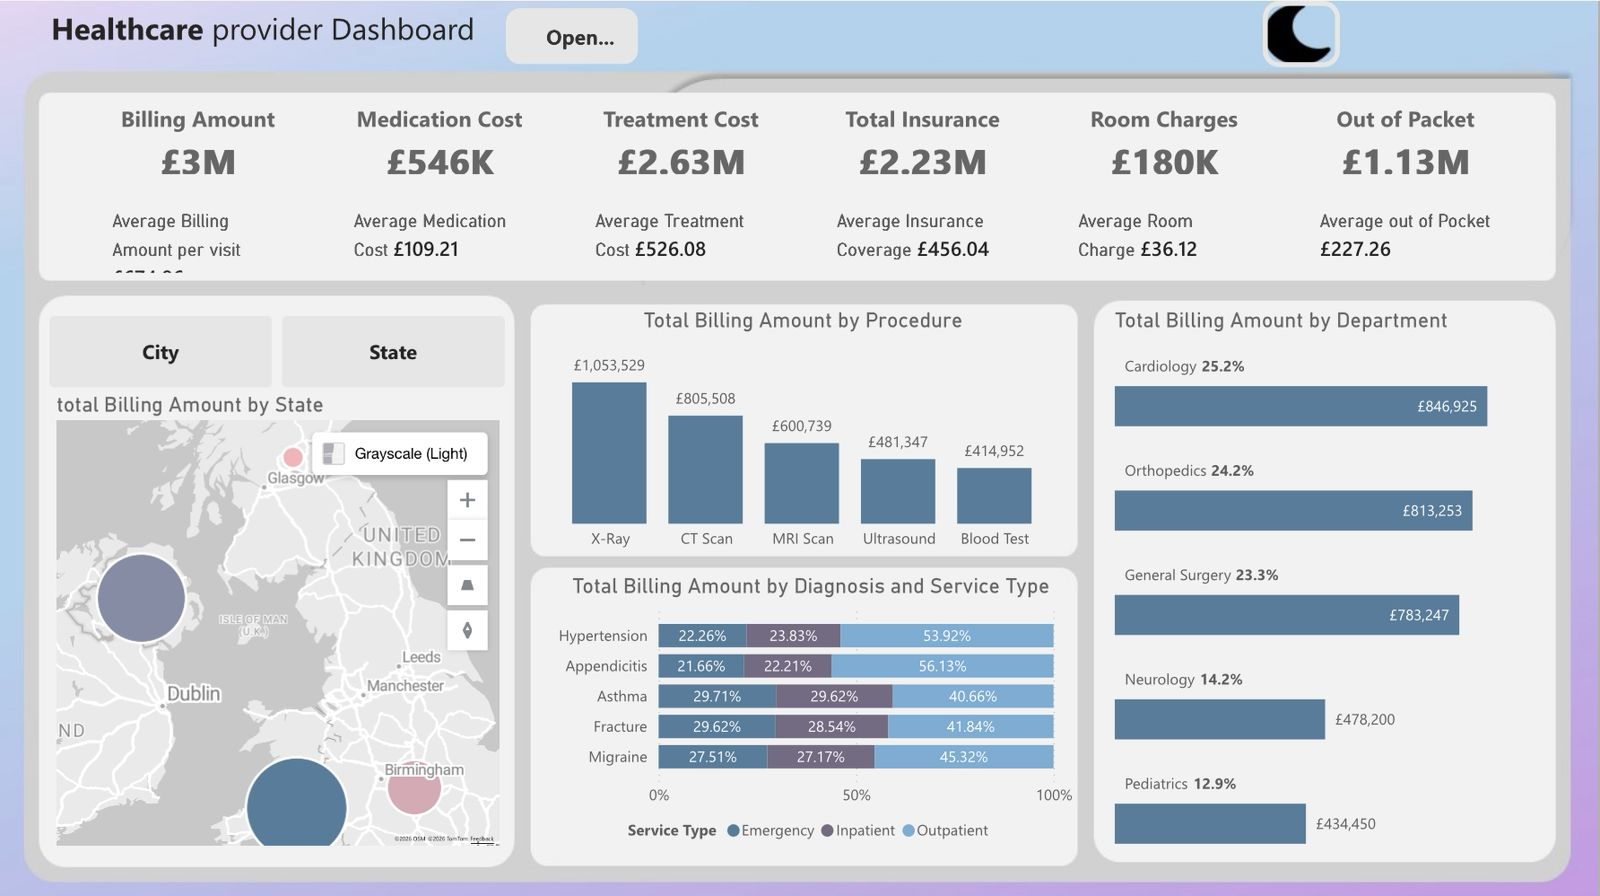

Layout of this report page (visuals, bound fields, positions):
{"tool":"powerbi","page":{"name":"Light Mode","canvas":[1280,720],"ordinal":0},"visuals":[{"type":"cardVisual","fields":{"Data":["Dax Calculation.total Billing Amount","Dax Calculation.Total Medication cost","Dax Calculation.Total Treatment Cost","Dax Calculation.Total Insurance Coverge","Dax Calculation.Total Room Charges","Dax Calculation.Out of Packet"]},"box":[30.9,52.9,1228.4,194],"z":0},{"type":"actionButton","title":"Open","box":[406.9,5.4,105.8,44.8],"z":1000,"group":"g1"},{"type":"azureMap","fields":{"Category":["cities.City","cities.State"],"Size":["Dax Calculation.total Billing Amount"]},"box":[42.6,314.4,364.4,365.9],"z":1000},{"type":"advancedSlicerVisual","fields":{"Values":["Patients Location Swich .Patients Location Swich "]},"box":[36.7,246.9,374.7,67.6],"z":2000},{"type":"clusteredColumnChart","title":"Total Billing Amount by Procedure","fields":{"Category":["procedures.Procedure"],"Y":["Dax Calculation.total Billing Amount"]},"box":[424.7,246.9,440.8,201.3],"z":3000},{"type":"hundredPercentStackedBarChart","title":"Total Billing Amount by Diagnosis and Service Type","fields":{"Y":["Dax Calculation.total Billing Amount"],"Category":["diagnoses.Diagnosis"],"Series":["visits.Service Type"]},"box":[437.9,458.4,427.6,221.9],"z":4000},{"type":"clusteredBarChart","title":"Total Billing Amount by Department","fields":{"Category":["departments.Department"],"Y":["Dax Calculation.Blank Measures","Dax Calculation.total Billing Amount"]},"box":[889,246.9,335,433.5],"z":5000},{"type":"textbox","box":[38.2,0,407,50],"z":6000},{"type":"actionButton","box":[1012.4,0,61.7,52.9],"z":7000},{"type":"group","id":"g1","title":"Slicers Buttons","box":[406.9,5.4,105.8,44.8],"z":9000}]}

Visuals, with their boxes in screenshot pixels (x1, y1, x2, y2), scaled from the page's 1280x720 canvas onto the 1600x896 screenshot:
cardVisual - Dax Calculation.total Billing Amount x Dax Calculation.Total Medication cost: box(39, 66, 1574, 307)
"Open" actionButton: box(509, 7, 641, 62)
azureMap - cities.City x cities.State: box(53, 391, 509, 847)
advancedSlicerVisual - Patients Location Swich .Patients Location Swich : box(46, 307, 514, 391)
"Total Billing Amount by Procedure" clusteredColumnChart: box(531, 307, 1082, 558)
"Total Billing Amount by Diagnosis and Service Type" hundredPercentStackedBarChart: box(547, 570, 1082, 847)
"Total Billing Amount by Department" clusteredBarChart: box(1111, 307, 1530, 847)
textbox: box(48, 0, 556, 62)
actionButton: box(1266, 0, 1343, 66)
"Slicers Buttons" group: box(509, 7, 641, 62)
